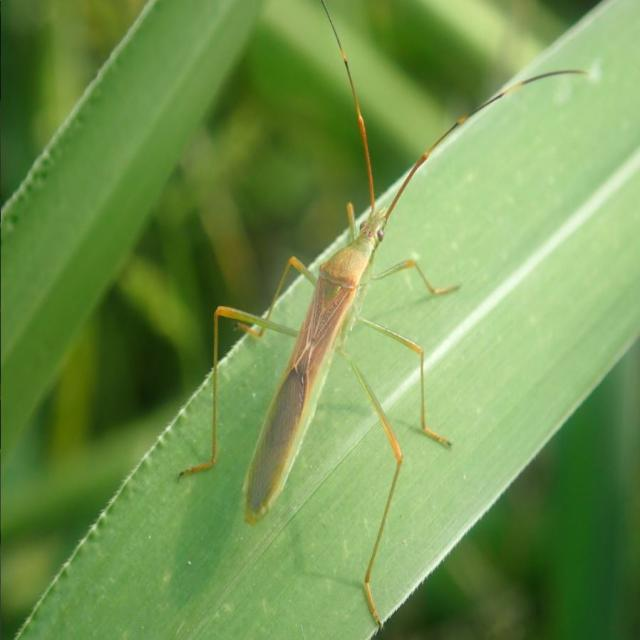walang sangit pada tanaman padi: (175, 2, 589, 630)
